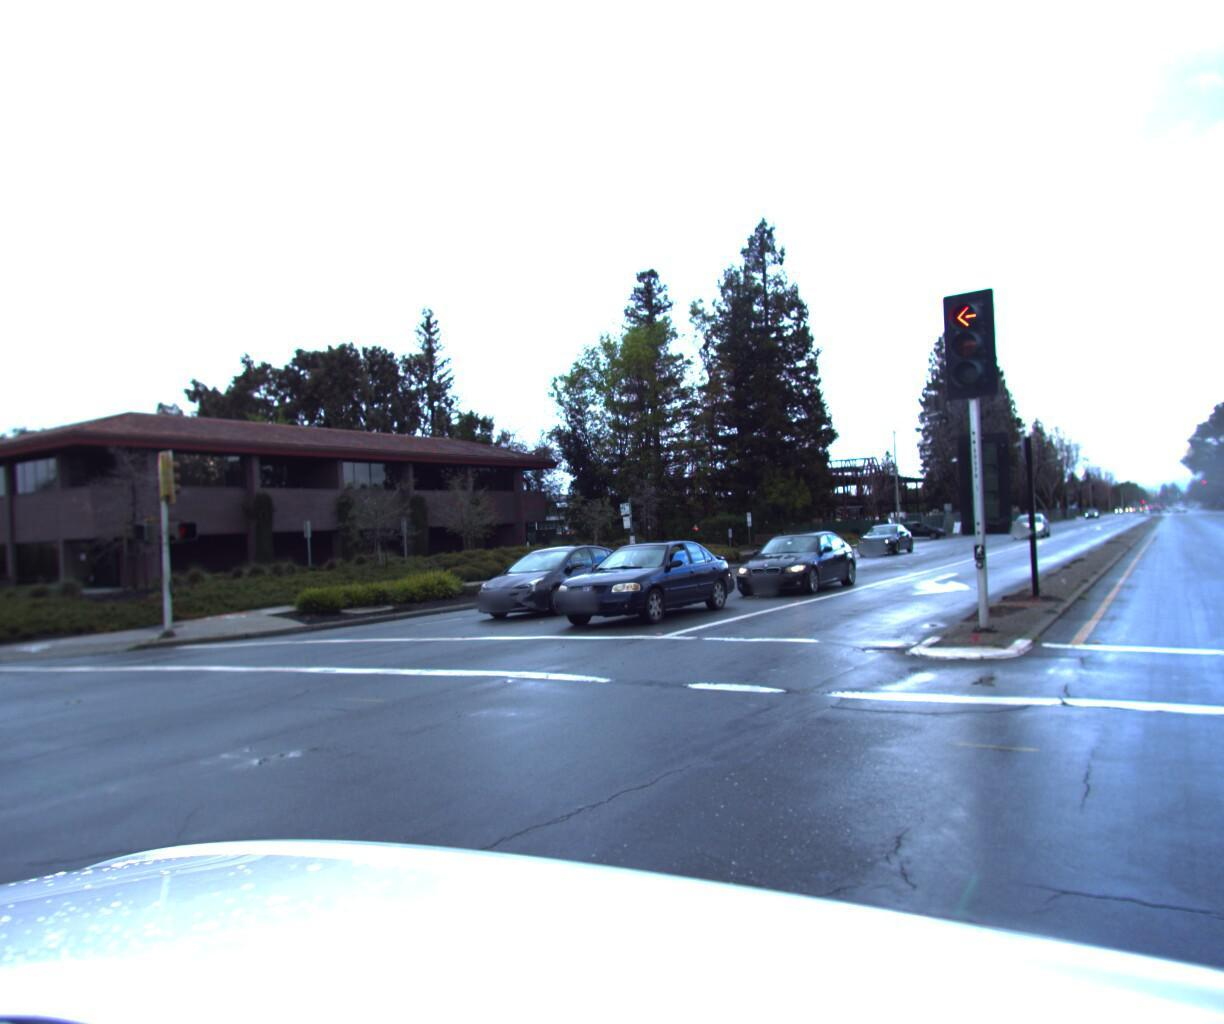car: (527, 531, 745, 636), (460, 540, 645, 625), (724, 523, 865, 597), (850, 515, 914, 552), (891, 516, 954, 540), (1009, 510, 1053, 538)
